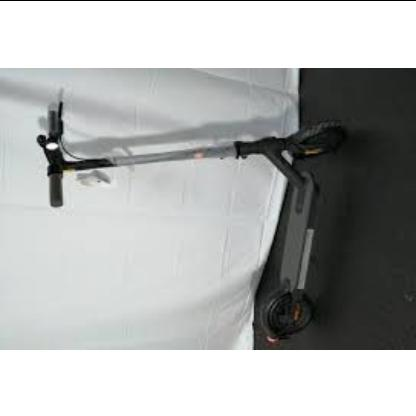bike: (13, 101, 348, 350)
